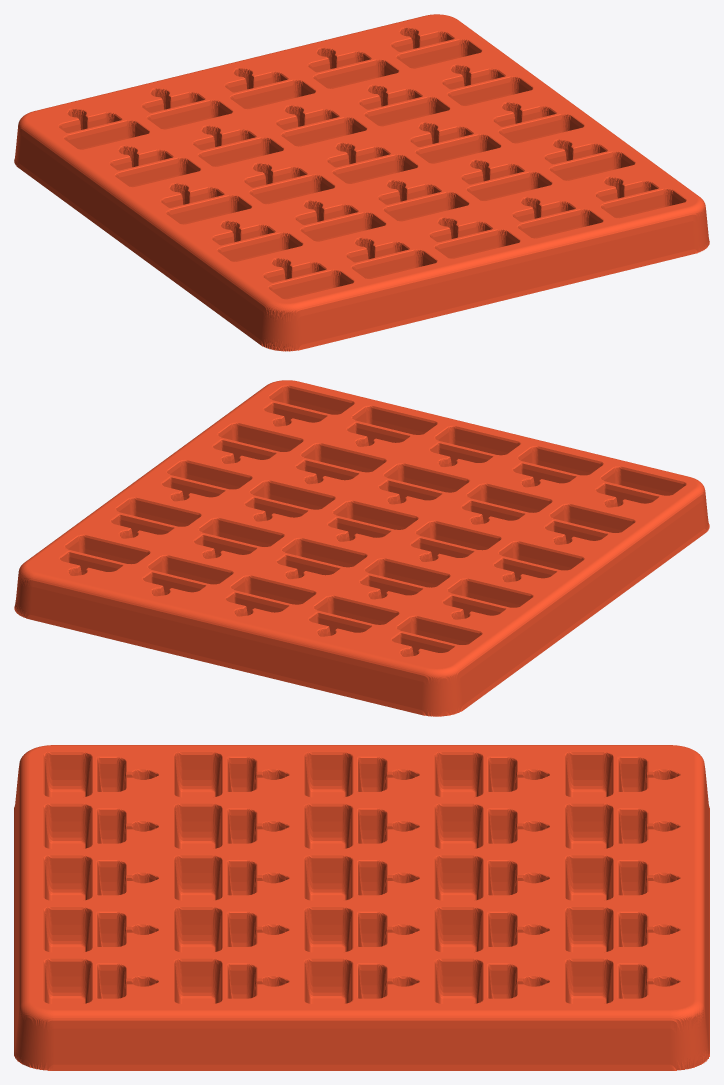
The model's file is mold.glb.
3 views of the same model, one above another, from view 1: azimuth 30°, elevation 25°; view 2: azimuth 150°, elevation 25°; view 3: azimuth 270°, elevation 25° (orthographic). The views are drawn at different scales.
Parts seen in each view (by area): view 1: geometry_0; view 2: geometry_0; view 3: geometry_0.
Part boxes in pixels (bbox=[...]): geometry_0: bbox=[14, 14, 709, 351]; geometry_0: bbox=[14, 380, 709, 716]; geometry_0: bbox=[14, 745, 709, 1070].
Size of the model in its own units: 0.1493 by 0.0136 by 0.1584.
